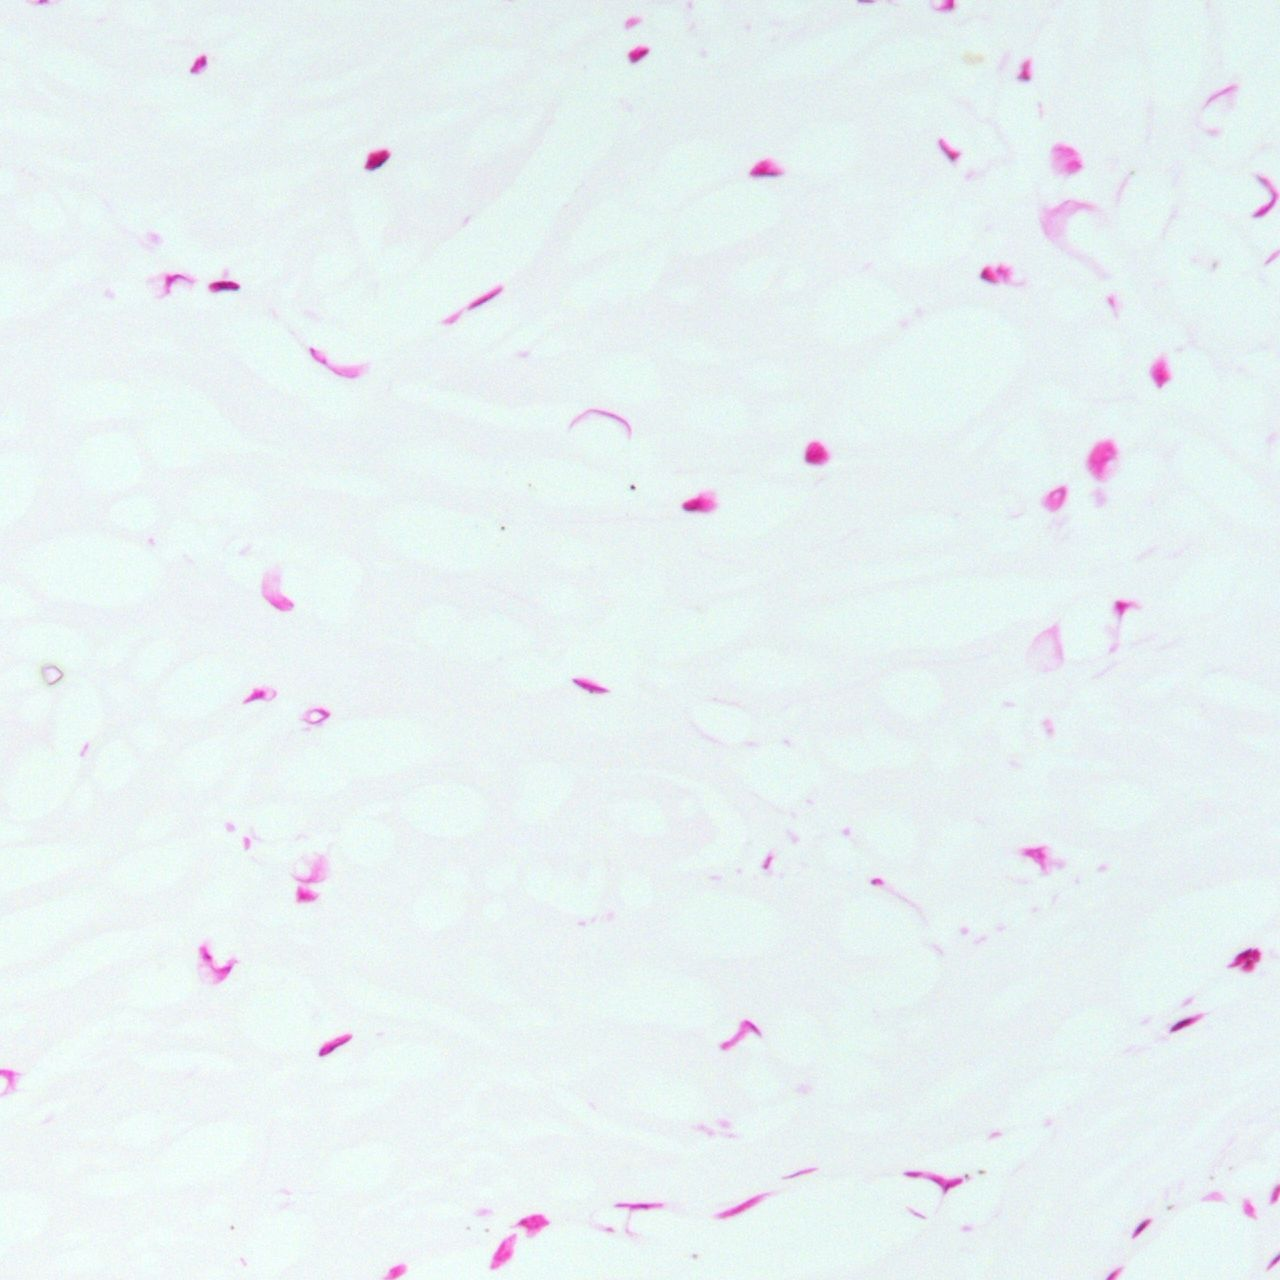dust: (961, 51, 983, 65), (978, 1169, 986, 1174), (630, 484, 635, 489), (500, 526, 506, 529)
nucleus-FG: (904, 1161, 963, 1194), (1227, 943, 1266, 980), (315, 1029, 356, 1057), (569, 673, 609, 698), (359, 144, 392, 174), (624, 40, 651, 65), (1149, 360, 1173, 388), (240, 685, 268, 706), (977, 263, 1000, 287), (750, 159, 782, 175), (1129, 1217, 1151, 1240), (190, 52, 210, 76), (1170, 1015, 1194, 1034), (682, 498, 715, 511), (210, 281, 238, 290), (1018, 61, 1030, 79), (761, 854, 773, 869)
